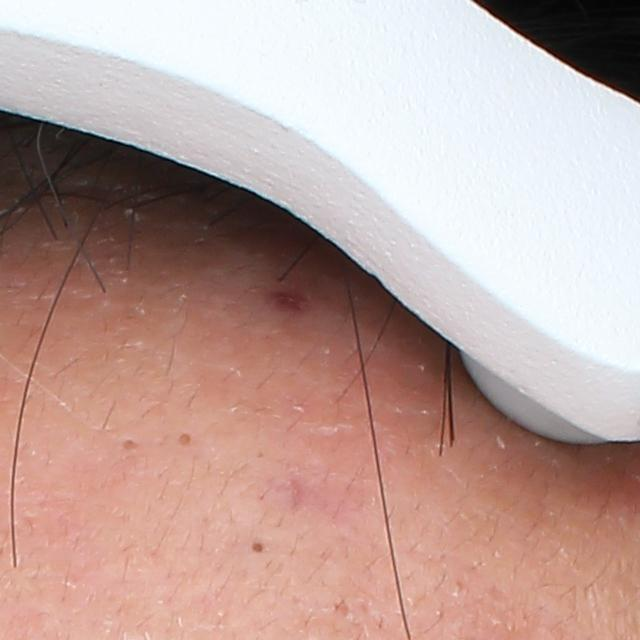comedo: (172, 429, 195, 449), (119, 436, 142, 454), (249, 539, 267, 556)
